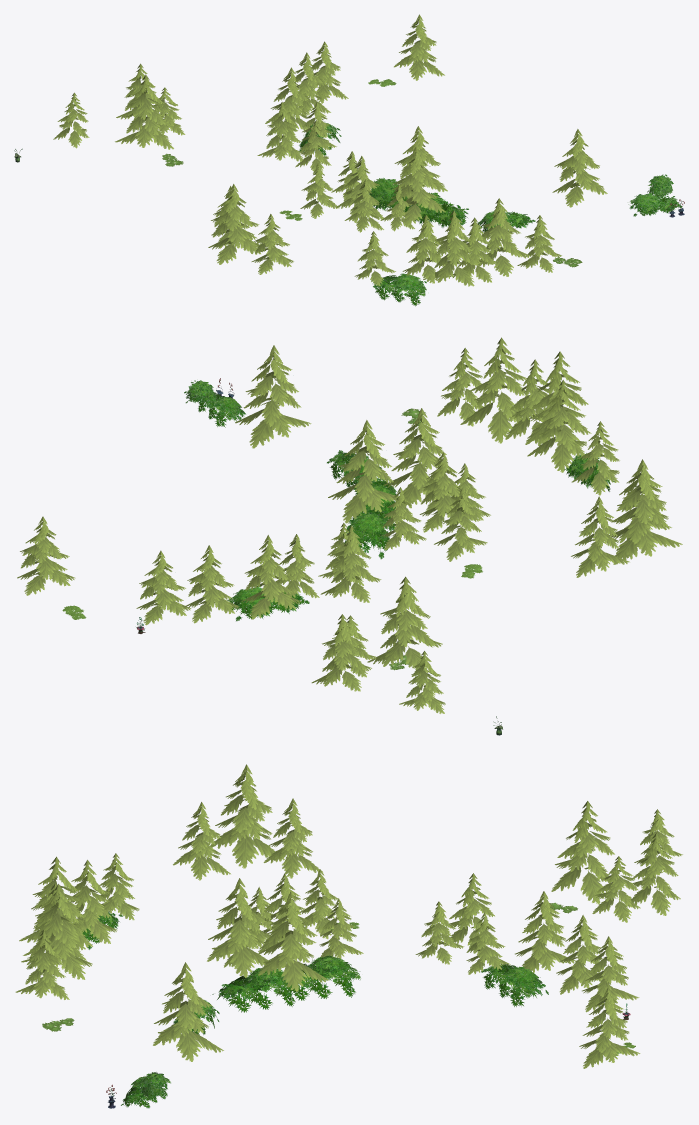
The model's file is zhibei7_1.fbx.
3 views of the same model, one above another, from view 1: azimuth 30°, elevation 25°; view 2: azimuth 150°, elevation 25°; view 3: azimuth 270°, elevation 25° (orthographic). The views are drawn at different scales.
Visible parts, largest first — view 1: zhibei7_1; view 2: zhibei7_1; view 3: zhibei7_1.
Boxes of the visible parts, x1,y1,x2,y2 form: zhibei7_1: [14, 14, 684, 306]; zhibei7_1: [17, 337, 682, 735]; zhibei7_1: [15, 764, 682, 1108].
Size of the model in its own units: 4783 by 1012 by 4950.
